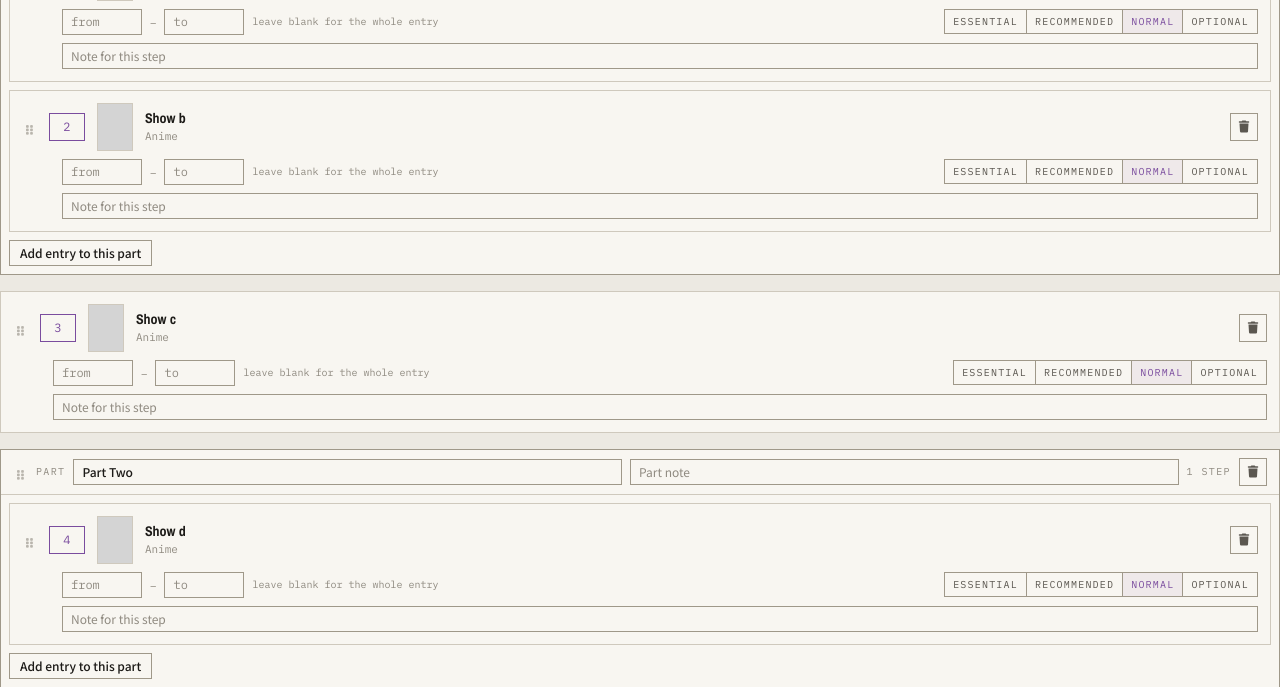
WatchOrderEditor reordering › refuses a typed position while a save is in flight, and resets the box
(page scrolled)
Press ArrowUp in the button named "Reorder Show c", box [13, 316, 28, 340]
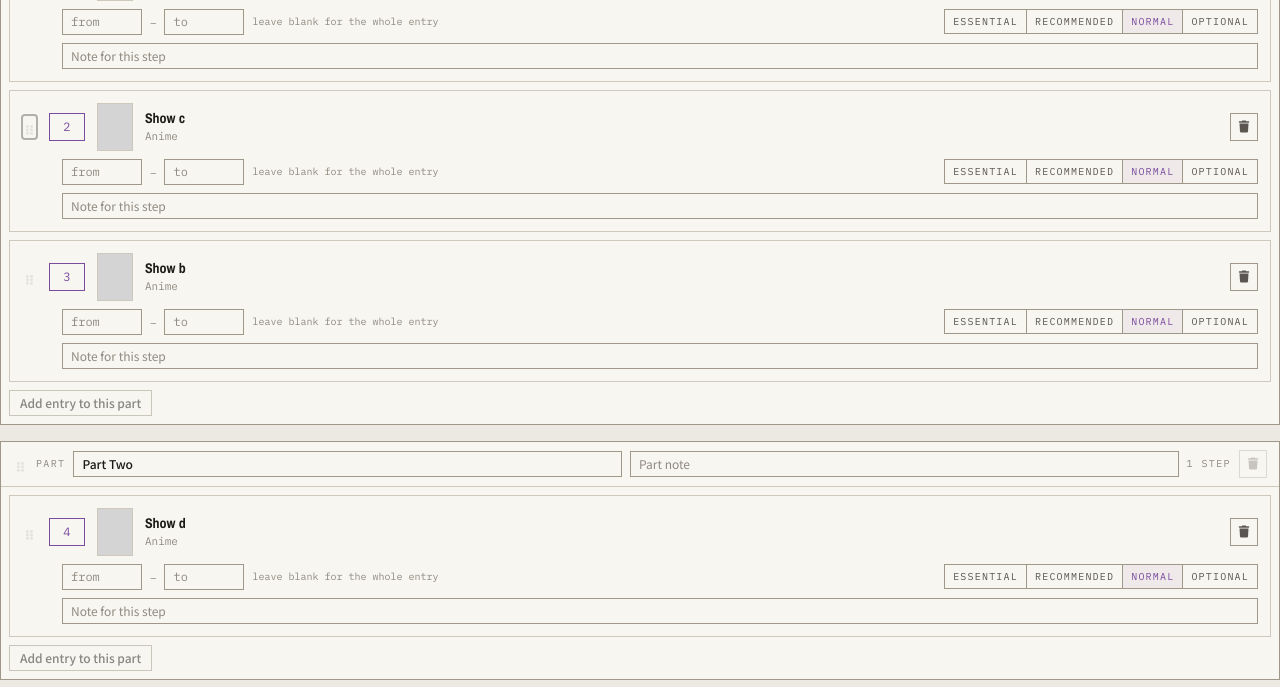
Replace the text in the number field named "Position, currently 4 of 4" with "1" at (67, 532), box [49, 518, 85, 546]
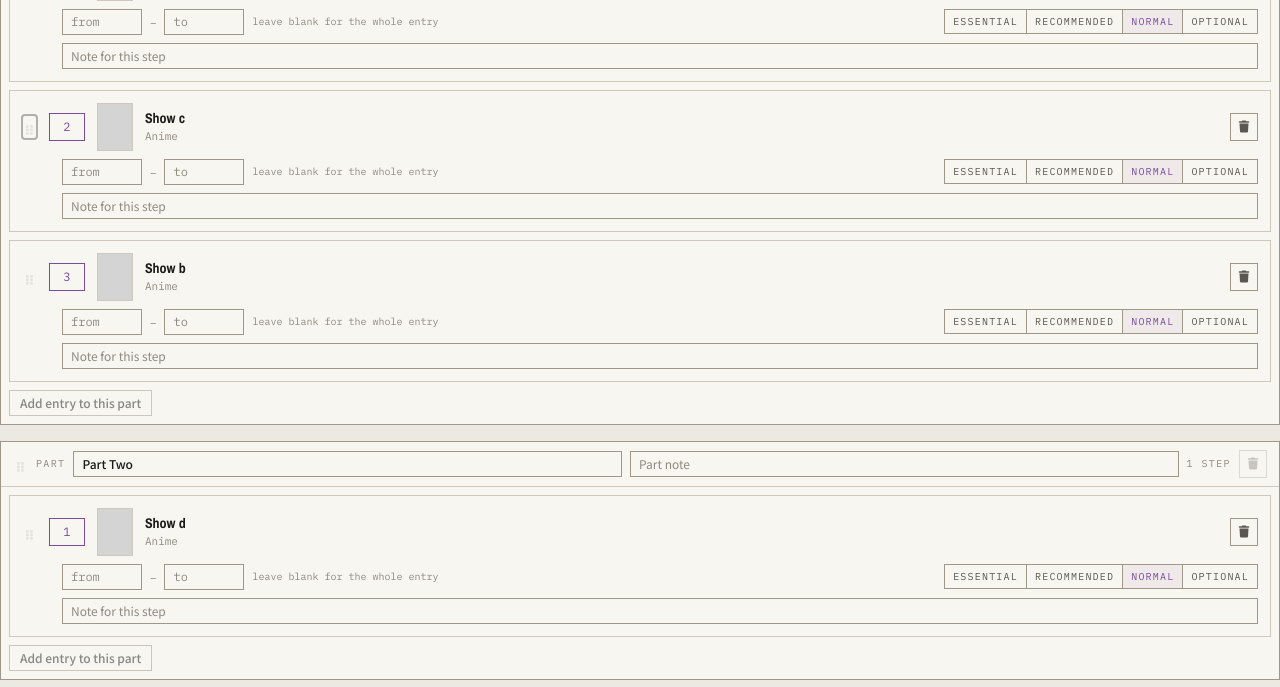
Leave the number field named "Position, currently 4 of 4", box [49, 518, 85, 546]
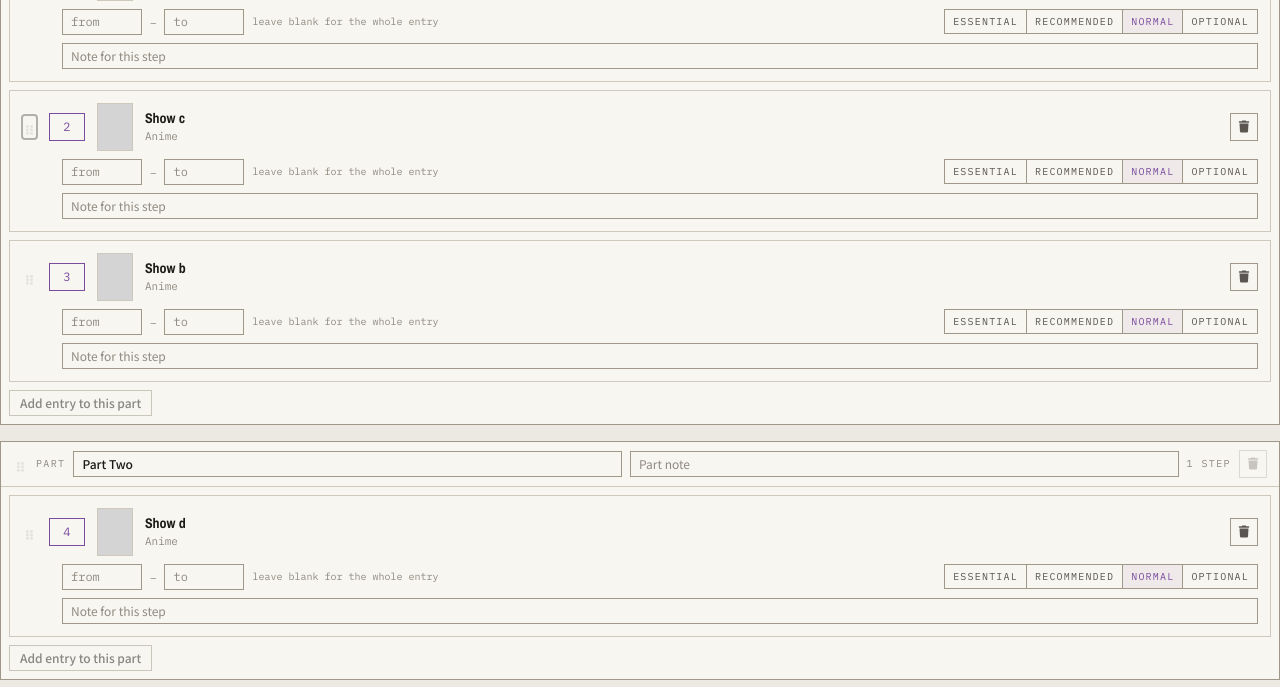
Now the number field named "Position, currently 4 of 4" holds "4", box [49, 518, 85, 546]
